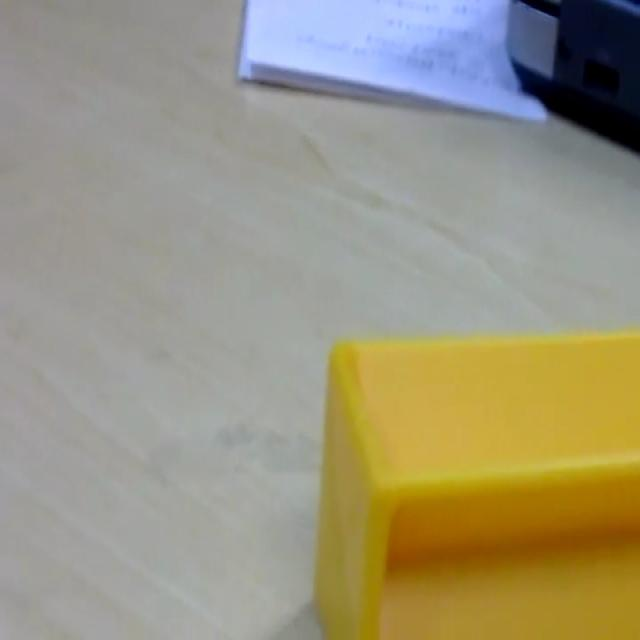yellow_block: (313, 328, 638, 636)
